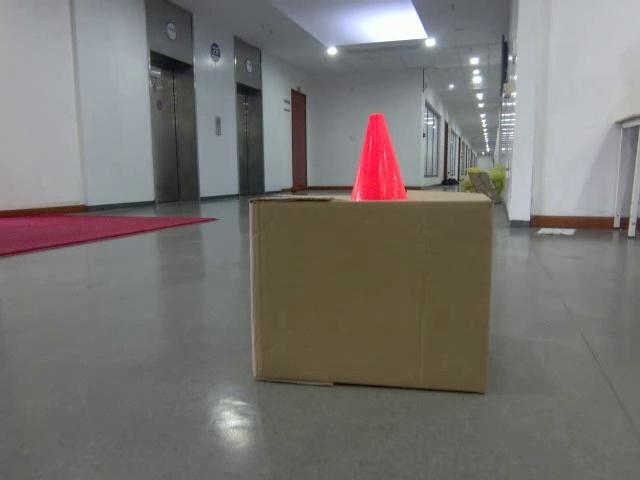orange_barrel: (350, 112, 409, 201)
